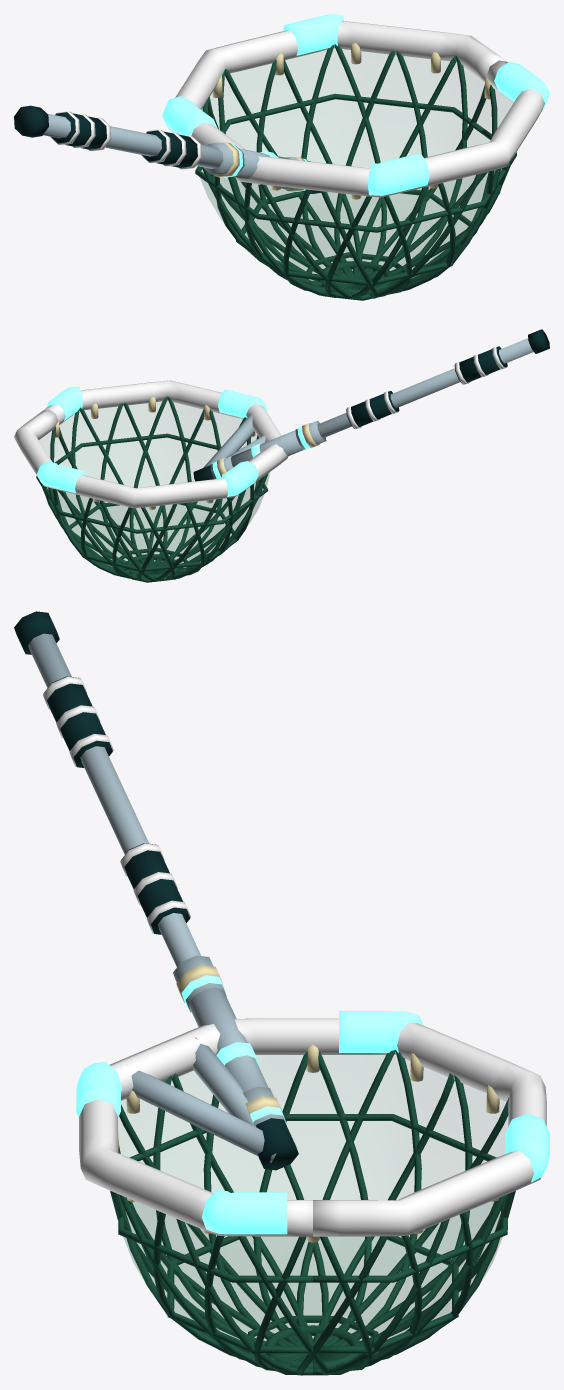
The model's file is net-red-faro.glb.
3 renders of one model, top to bottom at view 1: azimuth 30°, elevation 25°; view 2: azimuth 150°, elevation 25°; view 3: azimuth 270°, elevation 25°, orthographic. The views are drawn at different scales.
Visible parts, largest first — view 1: Open woven pouch.004, Woven green cord.004, NetColor.009, Signal red-faro.001, Brushed steel, Equipment lagoon.011, NetColor.008, Equipment cream.012, Equipment cream.011; view 2: Open woven pouch.004, Woven green cord.004, NetColor.009, Signal red-faro.001, Brushed steel, Equipment lagoon.011, Brushed steel.001, NetColor.008, Equipment cream.012, Signal red-faro; view 3: Open woven pouch.004, Woven green cord.004, NetColor.009, Signal red-faro.001, Brushed steel, Brushed steel.001, Equipment lagoon.011, NetColor.008, Equipment lagoon.012, Equipment cream.012, Signal red-faro, Equipment cream.011.
Part boxes in pixels (bbox=[...]): Open woven pouch.004: bbox=[196, 47, 512, 297]; Woven green cord.004: bbox=[195, 44, 516, 300]; NetColor.009: bbox=[168, 21, 544, 197]; Signal red-faro.001: bbox=[162, 14, 549, 195]; Brushed steel: bbox=[43, 113, 307, 191]; Equipment lagoon.011: bbox=[14, 105, 197, 167]; NetColor.008: bbox=[50, 111, 201, 169]; Equipment cream.012: bbox=[212, 43, 490, 199]; Equipment cream.011: bbox=[214, 142, 304, 191]; Open woven pouch.004: bbox=[39, 401, 269, 579]; Woven green cord.004: bbox=[36, 397, 268, 582]; NetColor.009: bbox=[14, 380, 288, 508]; Signal red-faro.001: bbox=[37, 386, 267, 496]; Brushed steel: bbox=[210, 338, 533, 479]; Equipment lagoon.011: bbox=[346, 329, 549, 428]; Brushed steel.001: bbox=[203, 414, 269, 467]; NetColor.008: bbox=[346, 346, 506, 429]; Equipment cream.012: bbox=[55, 397, 255, 509]; Signal red-faro: bbox=[212, 426, 310, 478]; Open woven pouch.004: bbox=[114, 1053, 512, 1370]; Woven green cord.004: bbox=[110, 1049, 515, 1375]; NetColor.009: bbox=[79, 1018, 546, 1236]; Signal red-faro.001: bbox=[76, 1011, 549, 1234]; Brushed steel: bbox=[28, 633, 286, 1125]; Brushed steel.001: bbox=[127, 1037, 276, 1162]; Equipment lagoon.011: bbox=[14, 611, 189, 934]; NetColor.008: bbox=[43, 676, 190, 933]; Equipment lagoon.012: bbox=[256, 1118, 298, 1170]; Equipment cream.012: bbox=[118, 1044, 499, 1242]; Signal red-faro: bbox=[181, 975, 286, 1123]; Equipment cream.011: bbox=[176, 965, 283, 1114].
Size of the model in its own units: 3.08 by 1.78 by 1.82.
